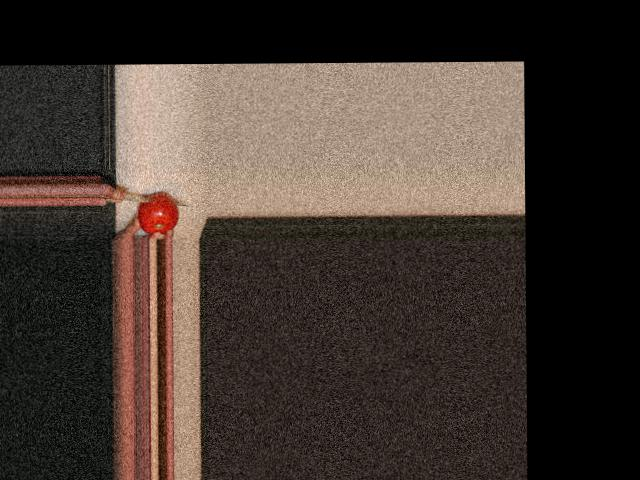tomato: (138, 192, 179, 234)
